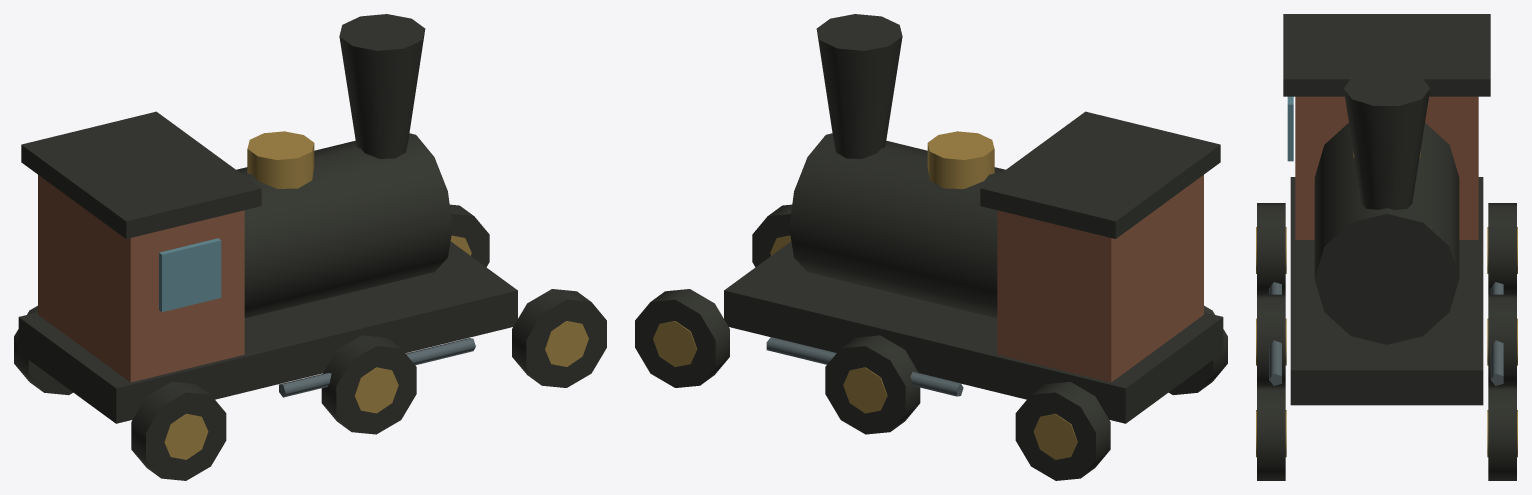
Rendered from custom-vehicle-tren.glb.
The picture shows the model from 3 angles, left to right: view 1: azimuth 30°, elevation 25°; view 2: azimuth 150°, elevation 25°; view 3: azimuth 270°, elevation 25°; orthographic projection.
Parts seen in each view (by area): view 1: custom-vehicle-tren; view 2: custom-vehicle-tren; view 3: custom-vehicle-tren.
Part boxes in pixels (x1,y1,x2,y2): custom-vehicle-tren: [14, 14, 606, 480]; custom-vehicle-tren: [635, 14, 1227, 480]; custom-vehicle-tren: [1256, 14, 1517, 480].
Bounding box in the file's own units: 1 × 0.6785 × 0.4848.
